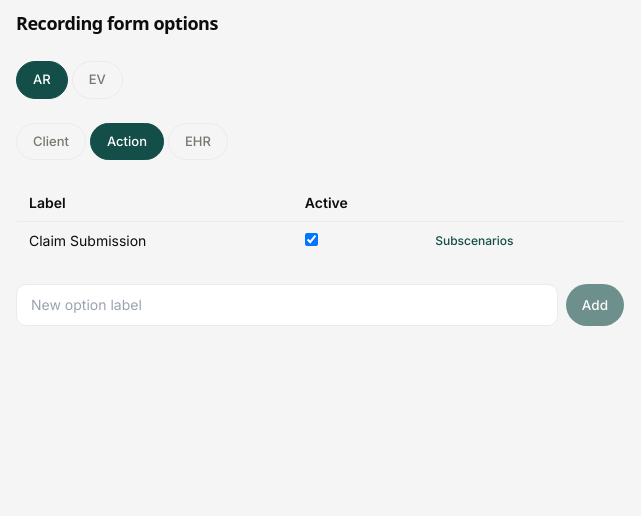
FormOptionsPage › expands an action row to add a subscenario
Expected: the text "Claim Submission" is shown, [16,222,293,260]
Click the button with aria-label "Manage subscenarios for Claim Submission" at (474, 241), box [435,231,514,251]
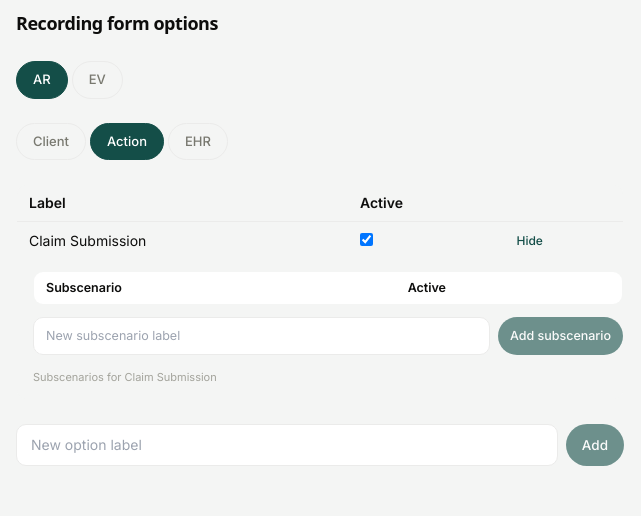
Type "Bundled Denial" into the field with placeholder "New subscenario label" at (261, 336), box [33,317,490,355]
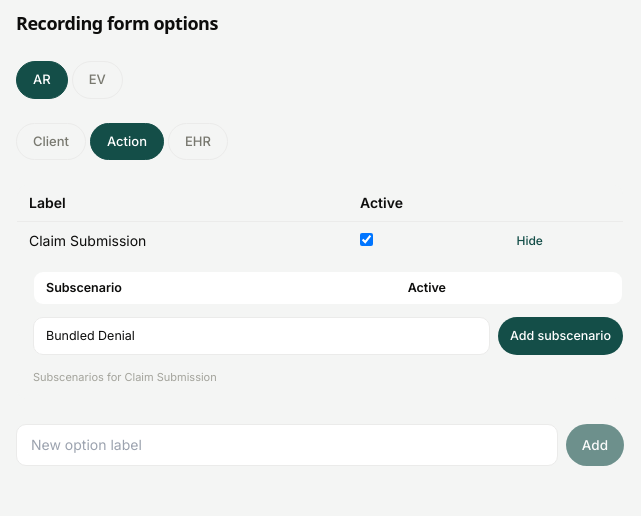
Click the button "Add subscenario" at (560, 336), box [498,317,623,355]
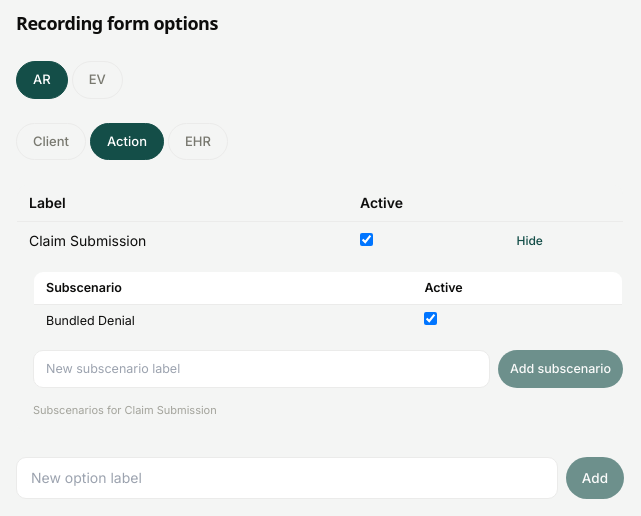
Expected: the text "Bundled Denial" is shown, [34,304,412,338]
